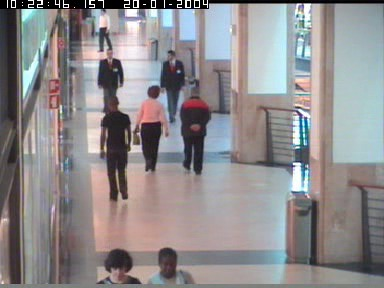person: (99, 97, 130, 200), (132, 87, 168, 175), (178, 86, 211, 174), (96, 48, 123, 118), (160, 50, 185, 122), (147, 246, 194, 284), (96, 248, 140, 283), (96, 9, 111, 52)
